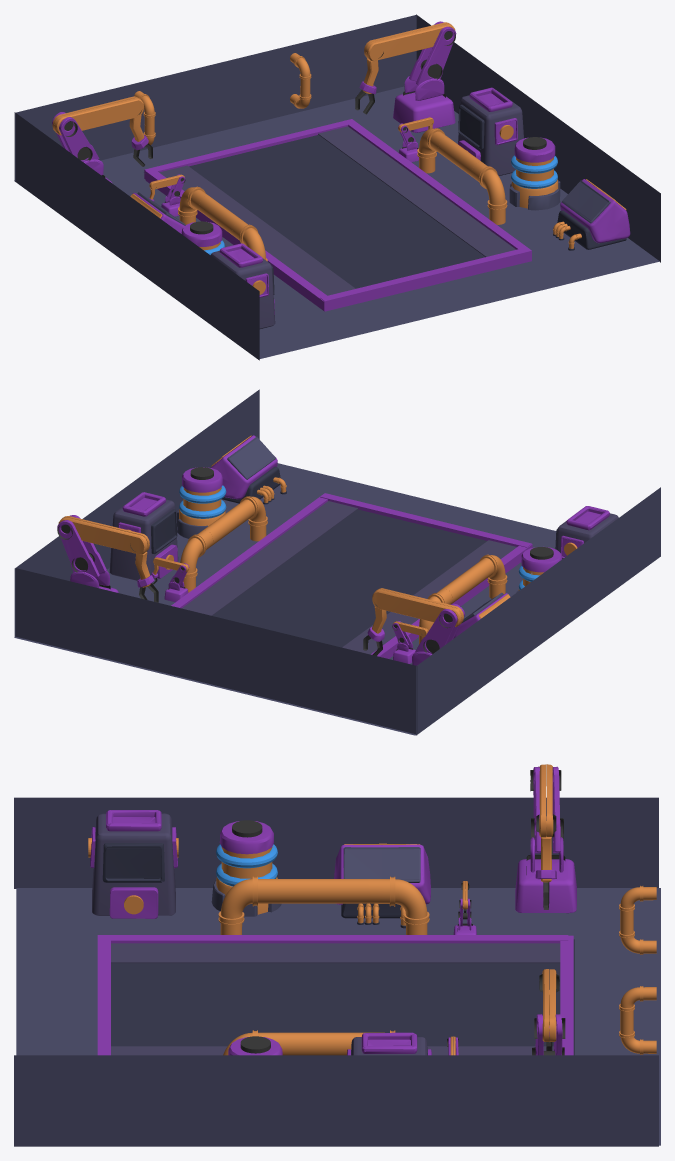
The model's file is map.fbx.
The picture shows the model from 3 angles, top to bottom: view 1: azimuth 30°, elevation 25°; view 2: azimuth 150°, elevation 25°; view 3: azimuth 270°, elevation 25°; orthographic projection. The views are drawn at different scales.
Parts seen in each view (by area): view 1: Cylinder.004, Cube, Plane.004, Plane.003, Plane.001, Cube.005, Cube.004, mesh.002, Cylinder.005, Cube.001, mesh.003, tube_corner.001 (+14 smaller); view 2: Plane.004, Cube, Plane.003, Cylinder.004, Plane.001, Cube.005, mesh.002, Cylinder.005, Cube.004, mesh.003, tube_corner.001, Cube.001 (+9 smaller); view 3: Plane.001, Plane.003, Cylinder.004, Cube, Cube.001, mesh.001, tube_corner, Cube.004, Cylinder.012, mesh.013, Cylinder.007, Cube.005 (+7 smaller).
Part boxes in pixels (x1,y1,x2,y2): Cylinder.004: (14, 86, 659, 358); Cube: (143, 135, 485, 288); Plane.004: (15, 15, 416, 181); Plane.003: (14, 112, 259, 360); Plane.001: (416, 14, 660, 262); Cube.005: (318, 126, 515, 256); Cube.004: (145, 169, 531, 311); mesh.002: (458, 87, 523, 175); Cylinder.005: (553, 179, 630, 250); Cube.001: (159, 165, 355, 295); mesh.003: (509, 137, 560, 210); tube_corner.001: (417, 128, 507, 224); Plane.004: (15, 568, 417, 734); Cube: (212, 509, 486, 647); Plane.003: (416, 487, 660, 735); Cylinder.004: (14, 463, 556, 735); Plane.001: (14, 389, 259, 636); Cube.005: (182, 501, 358, 615); mesh.002: (109, 492, 178, 580); Cylinder.005: (211, 435, 286, 504); Cube.004: (320, 493, 532, 658); mesh.003: (177, 467, 226, 538); tube_corner.001: (180, 496, 267, 592); Cube.001: (342, 540, 516, 654); Plane.001: (14, 1055, 658, 1146); Plane.003: (14, 797, 658, 888); Cylinder.004: (16, 888, 660, 1145); Cube: (111, 939, 574, 1055); Cube.001: (111, 943, 560, 963); mesh.001: (88, 810, 178, 918); tube_corner: (218, 876, 429, 934); Cube.004: (97, 935, 568, 1055); Cylinder.012: (334, 843, 430, 928); mesh.013: (211, 820, 281, 916); Cylinder.007: (515, 859, 576, 913); Cube.005: (111, 1046, 553, 1055).
Bounding box in the file's own units: 9334 × 2161 × 9826.
